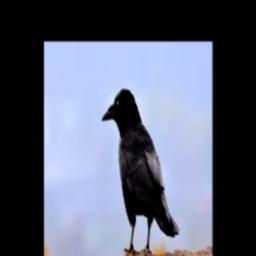Crow: (101, 87, 179, 253)
